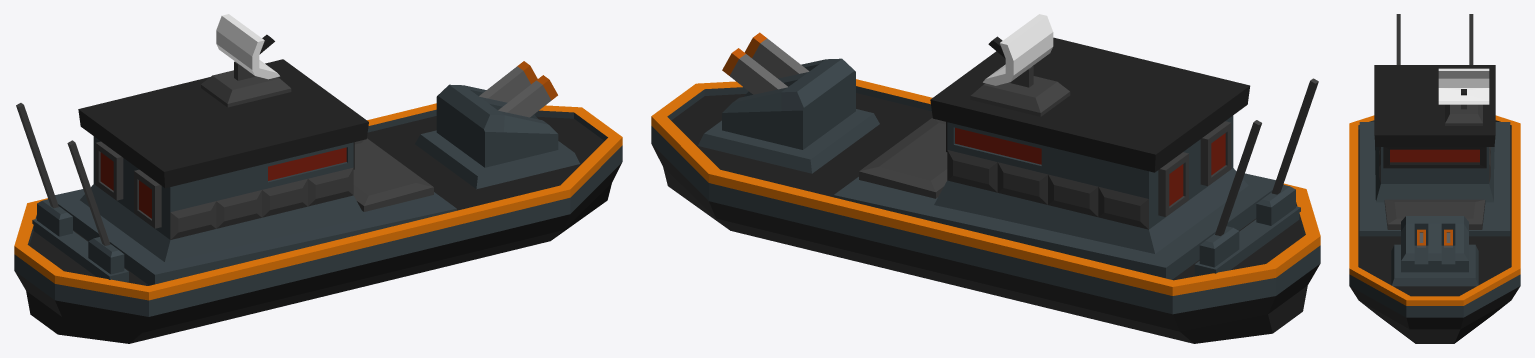
Rendered from Battleship.fbx.
The picture shows the model from 3 angles, left to right: view 1: azimuth 30°, elevation 25°; view 2: azimuth 150°, elevation 25°; view 3: azimuth 270°, elevation 25°; orthographic projection. The views are drawn at different scales.
Parts seen in each view (by area): view 1: Cube, Cube.001; view 2: Cube, Cube.001; view 3: Cube, Cube.001.
Boxes of the visible parts, x1,y1,x2,y2 form: Cube: (14, 14, 622, 343); Cube.001: (436, 61, 558, 167); Cube: (651, 14, 1320, 343); Cube.001: (722, 32, 855, 149); Cube: (1349, 14, 1520, 343); Cube.001: (1401, 216, 1468, 272).
Bounding box in the file's own units: 2694 × 1033 × 1000.
1 material, 1 textured.
